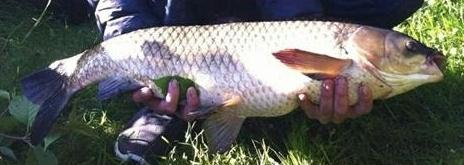Grass Carp: (20, 19, 448, 151)
